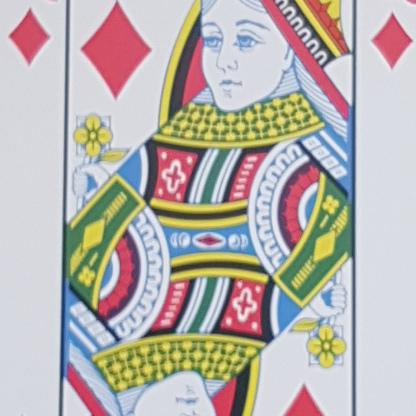Qd: (3, 0, 68, 77), (369, 0, 415, 77)
